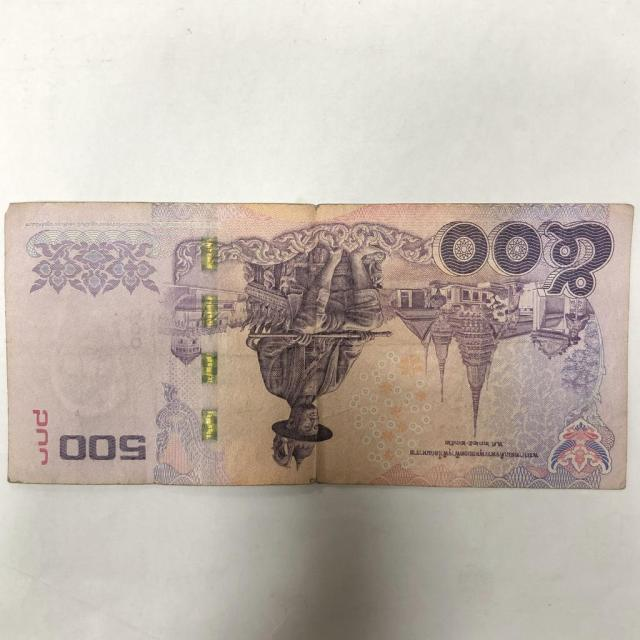THAI500: (5, 202, 634, 490)
